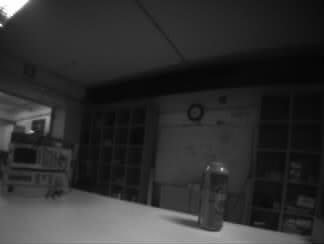Tin can: (199, 163, 228, 230)
